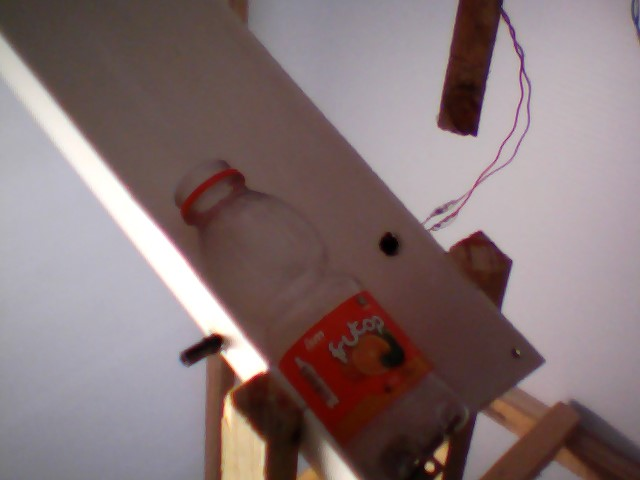plastico: (161, 153, 477, 480)
